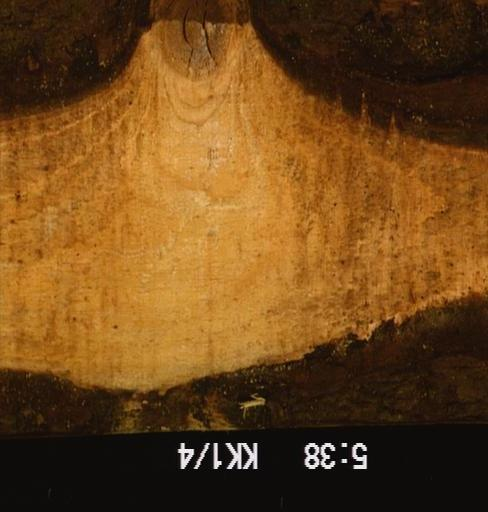sound_knot: (166, 0, 227, 76)
wave: (0, 289, 486, 439), (247, 0, 486, 152), (0, 0, 153, 122)
